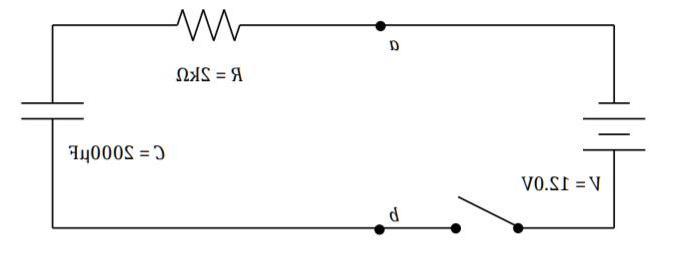Capacitor: (10, 79, 95, 138)
